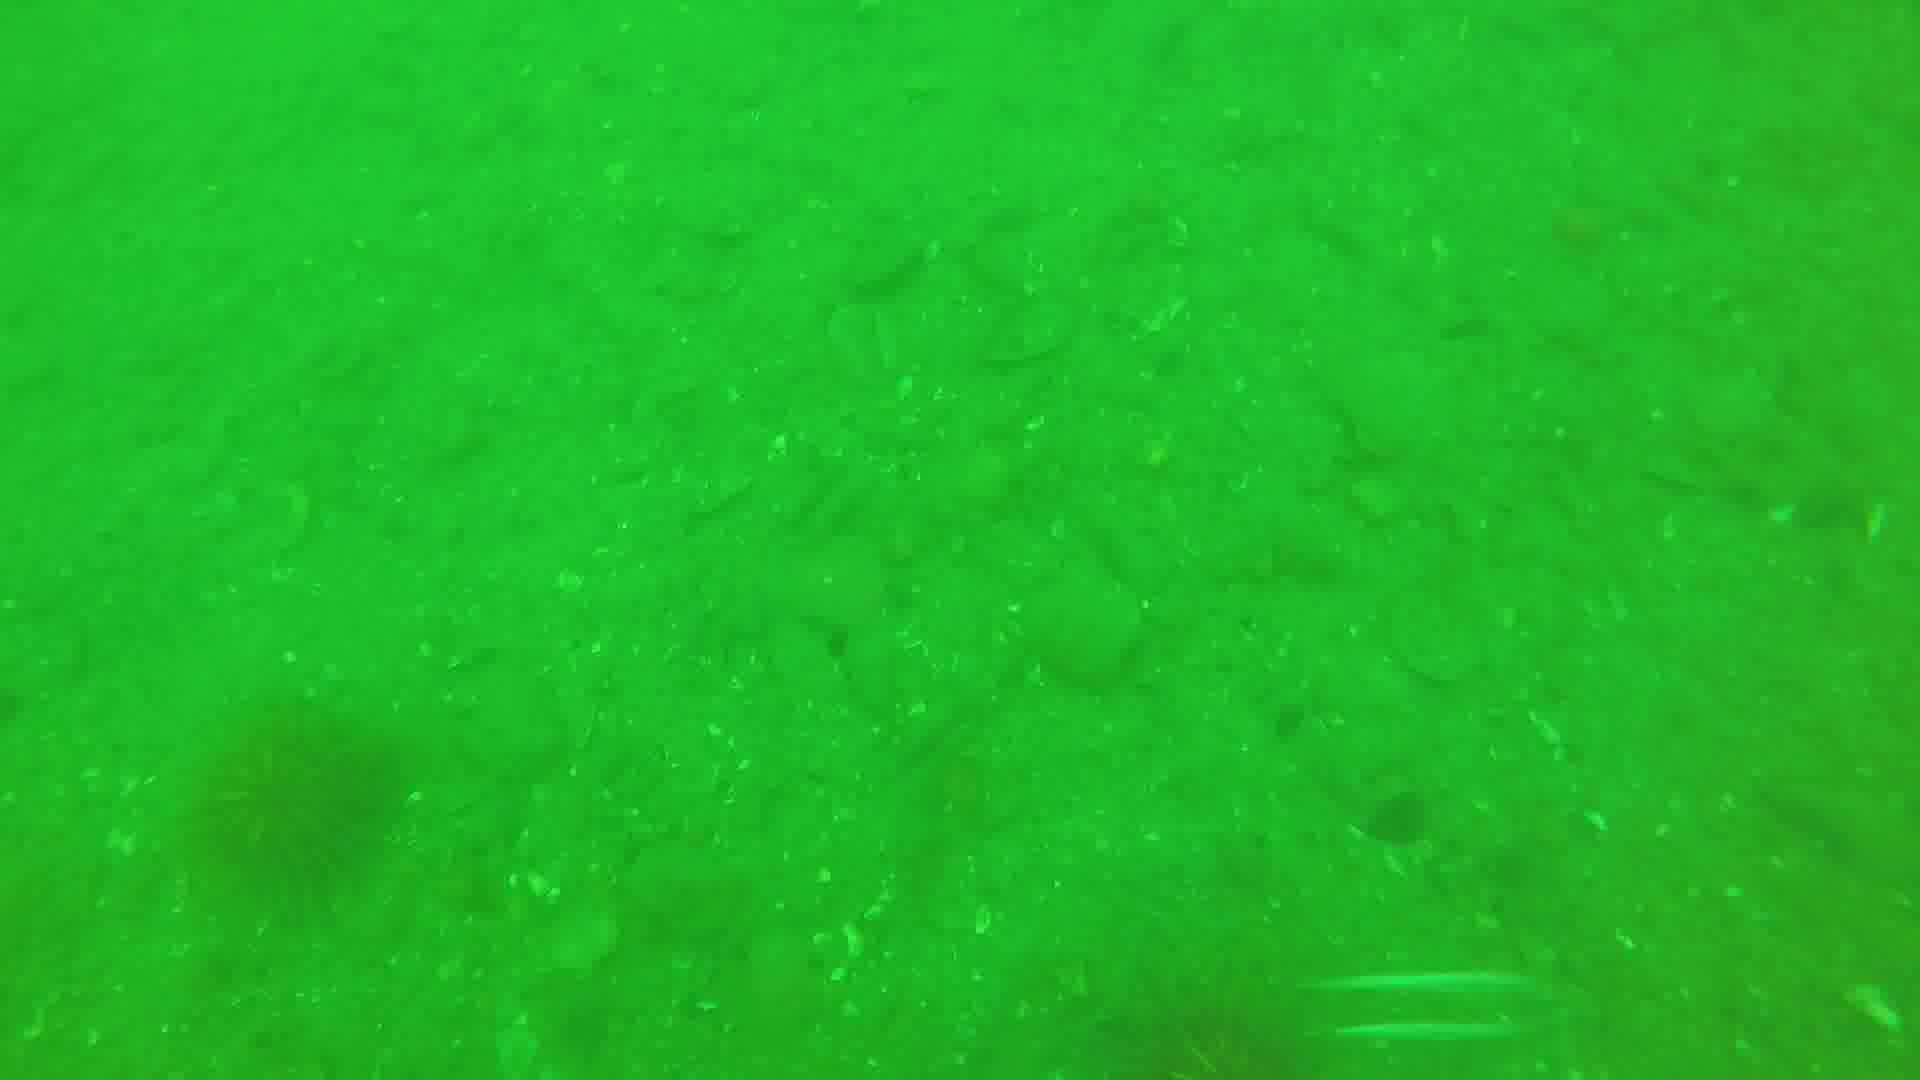echinus: (173, 708, 386, 905)
